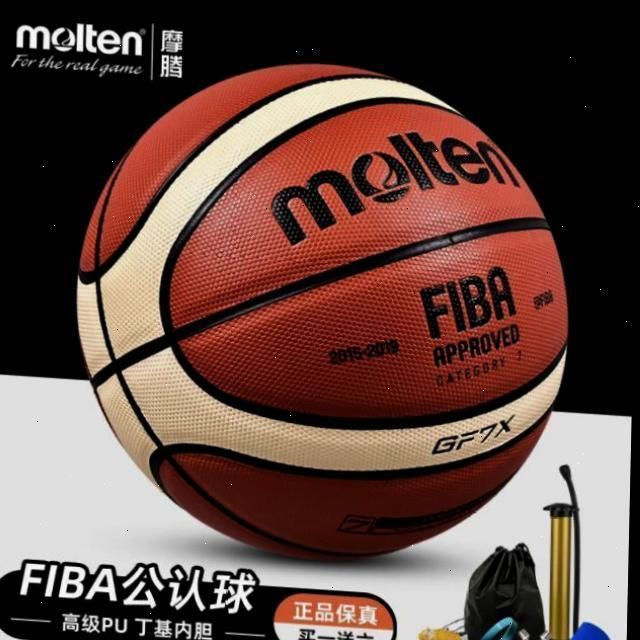Basketball: (77, 62, 566, 559)
